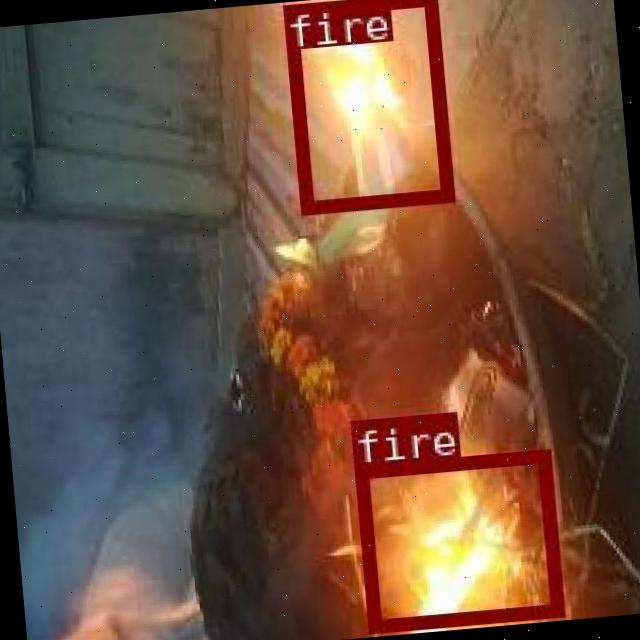fire: (352, 447, 560, 630), (280, 0, 452, 211)
